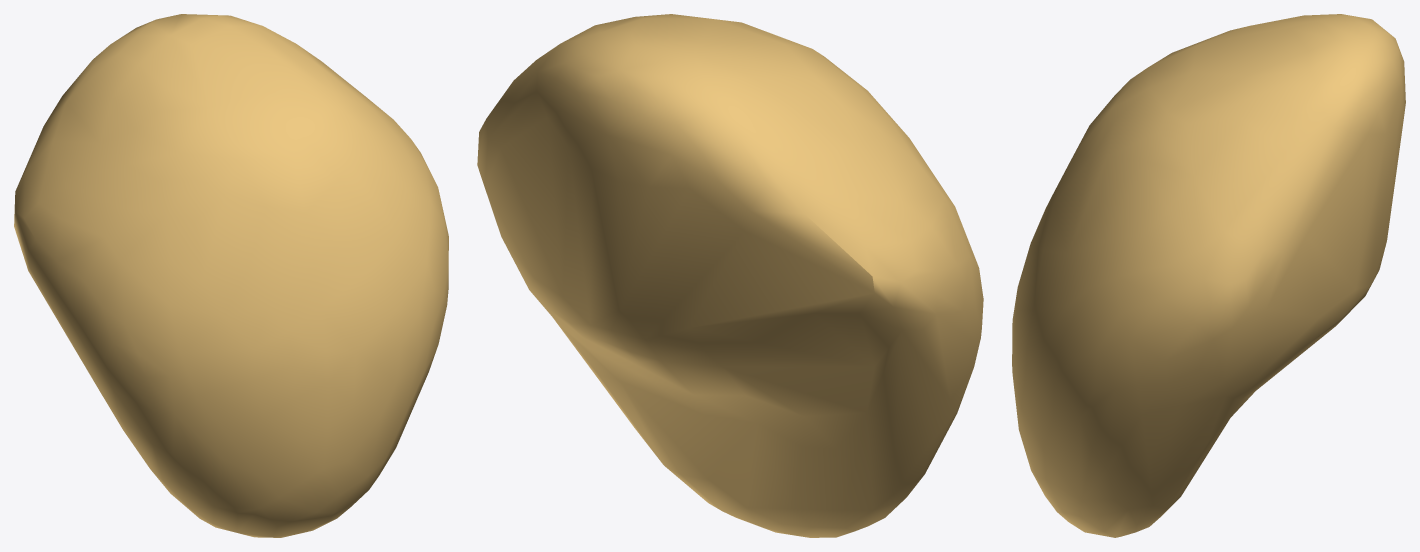
Rendered from nervoso-nodule-of-vermis.glb.
3 views of the same model, side by side, from view 1: azimuth 30°, elevation 25°; view 2: azimuth 150°, elevation 25°; view 3: azimuth 270°, elevation 25° (orthographic). The views are drawn at different scales.
Parts seen in each view (by area): view 1: Nodule of vermis; view 2: Nodule of vermis; view 3: Nodule of vermis.
Boxes of the visible parts, left/top/right/bottom form: Nodule of vermis: left=14, top=14, right=448, bottom=537; Nodule of vermis: left=477, top=14, right=983, bottom=537; Nodule of vermis: left=1012, top=14, right=1405, bottom=537.
Bounding box in the file's own units: 0.0105 × 0.0118 × 0.00854.
